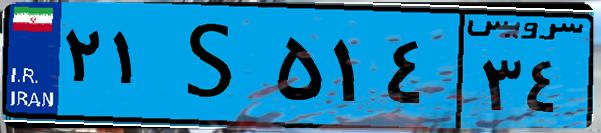1: (330, 28, 385, 110), (110, 28, 158, 98)
2: (57, 26, 110, 100)
3: (475, 38, 525, 113)
4: (385, 28, 445, 110), (525, 38, 570, 115)
5: (270, 28, 330, 110)
S: (158, 12, 270, 120)
